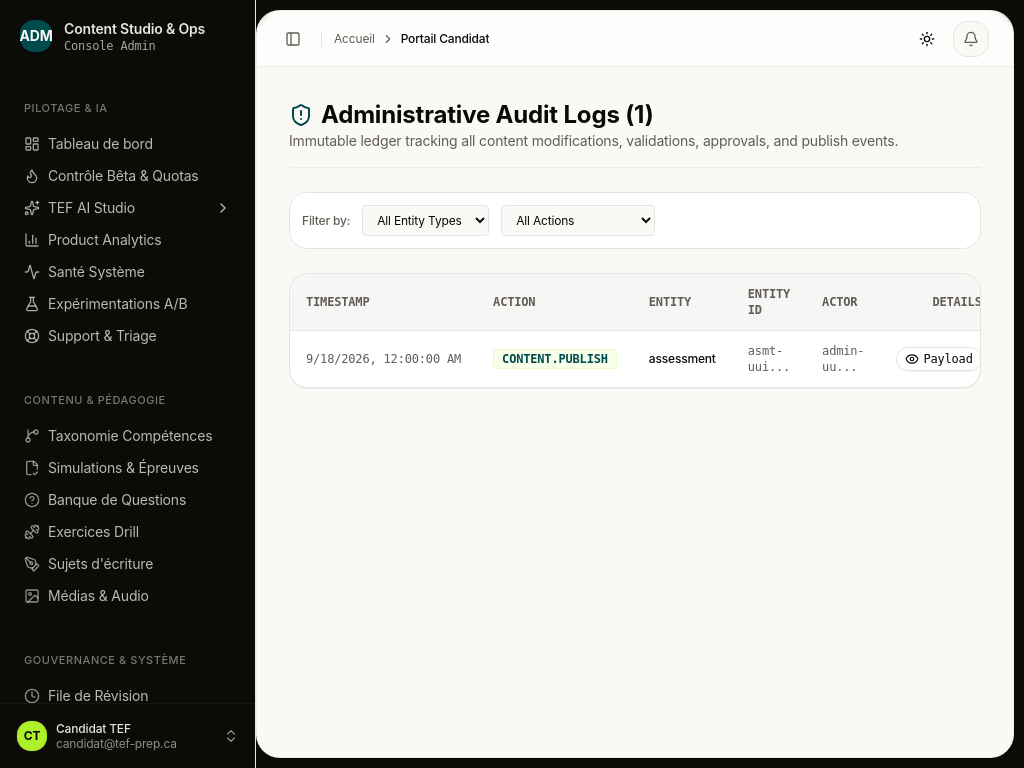
Test: Content Studio Admin UI › renders AuditLogsPage and inspects payload snapshot
The width and height of the screenshot is (1024, 768).
Expected: the heading "Administrative Audit Logs (1)" is shown, [289,100,654,129]
Expected: the text "asmt-uui..." is shown, [732,330,806,387]
// Click Payload button
Click the button "Payload" at (939, 359), box [896,347,982,371]
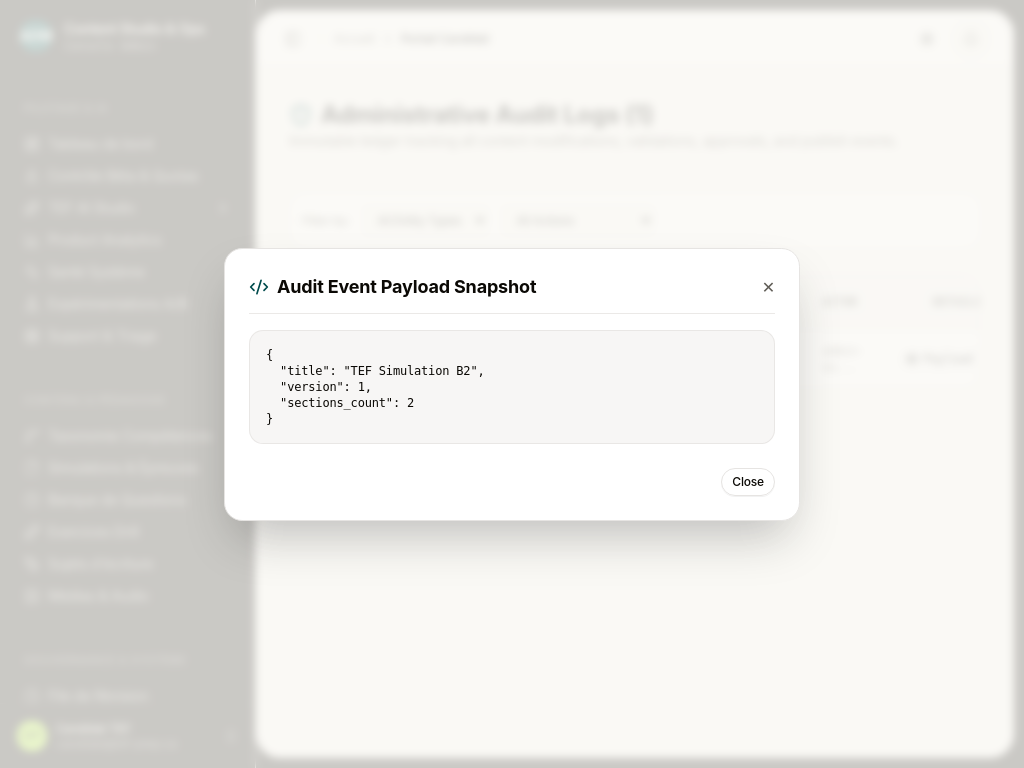
Result: the heading "Audit Event Payload Snapshot" is shown at [249,272,536,300]
Result: the text "TEF Simulation B2" is shown at [266,348,484,426]
